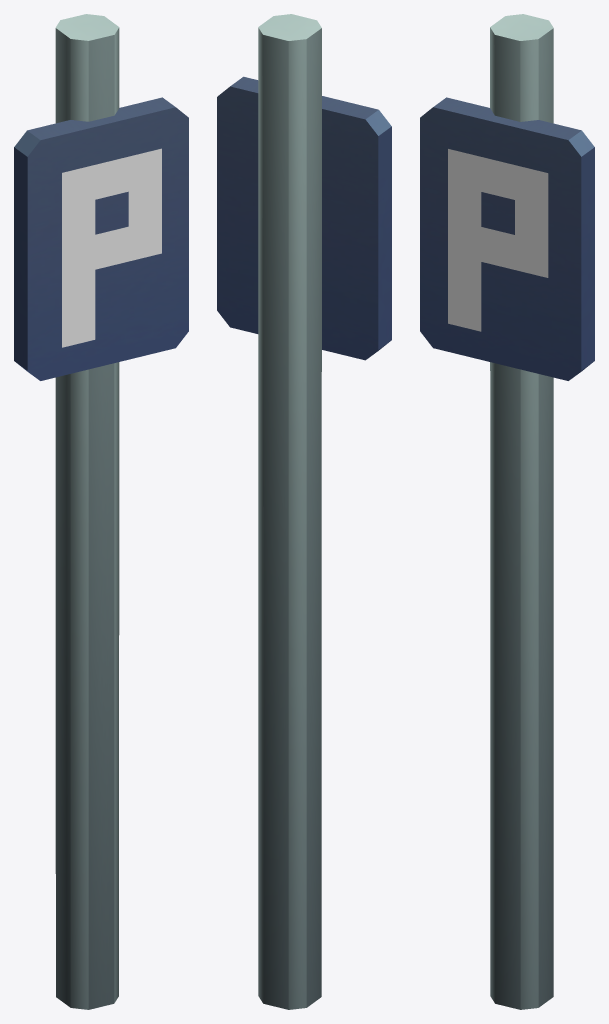
Rendered from sign_parking.fbx.
The picture shows the model from 3 angles, left to right: view 1: azimuth 30°, elevation 25°; view 2: azimuth 150°, elevation 25°; view 3: azimuth 330°, elevation 25°; orthographic projection.
Parts seen in each view (by area): view 1: sign_parking; view 2: sign_parking; view 3: sign_parking.
Boxes of the visible parts, x1,y1,x2,y2 form: sign_parking: (14, 14, 188, 1009); sign_parking: (217, 14, 391, 1009); sign_parking: (420, 14, 594, 1009).
Bounding box in the file's own units: 43.61 × 250 × 17.99.
